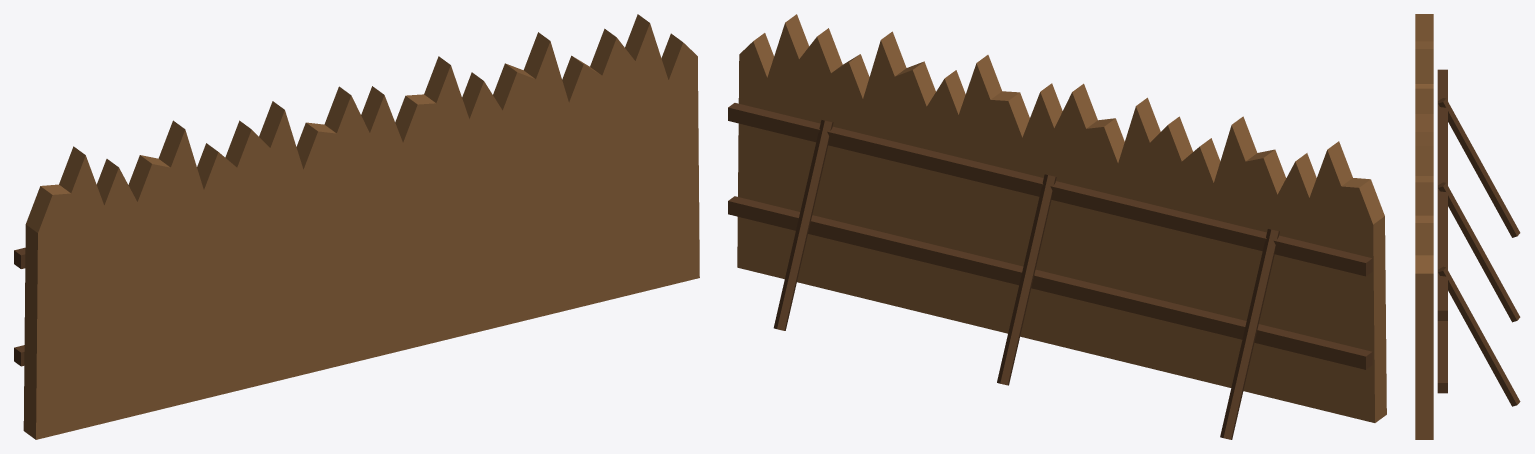
File: siege_palisade.glb
3 renders of one model, left to right at view 1: azimuth 30°, elevation 25°; view 2: azimuth 150°, elevation 25°; view 3: azimuth 270°, elevation 25°, orthographic. The views are drawn at different scales.
Parts seen in each view (by area): view 1: siege_palisade; view 2: siege_palisade; view 3: siege_palisade.
Boxes of the visible parts, x1,y1,x2,y2 form: siege_palisade: [14, 14, 699, 439]; siege_palisade: [728, 14, 1386, 439]; siege_palisade: [1415, 14, 1520, 439].
Size of the model in its own units: 10 by 3.98 by 1.84.
